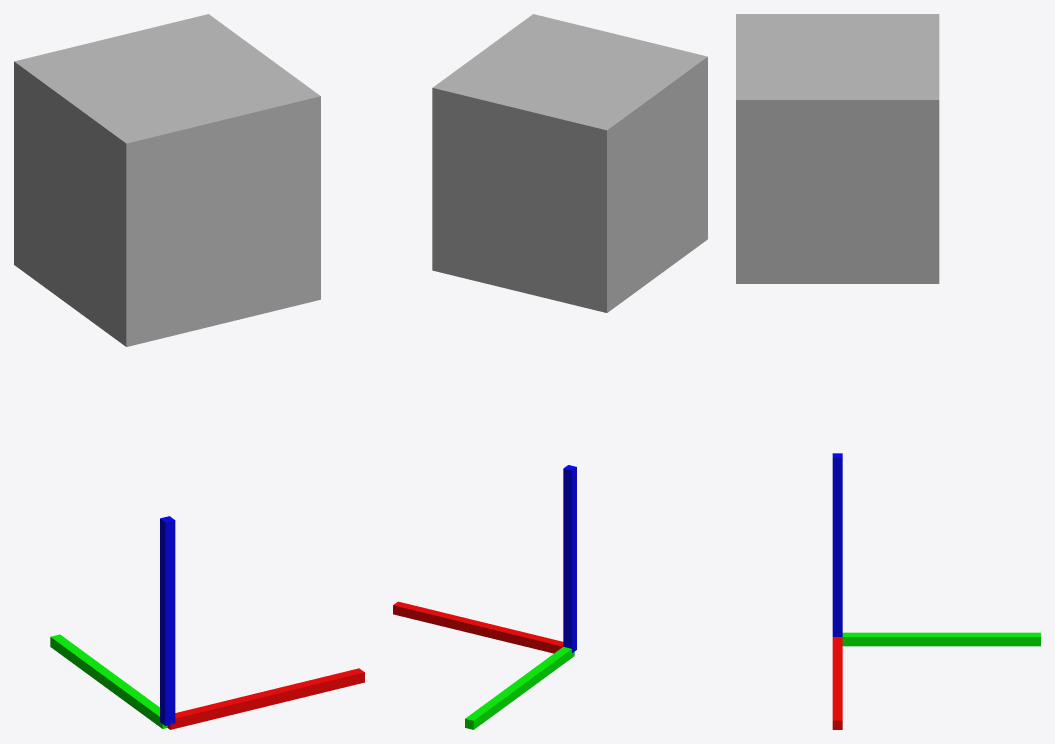
File: diamond.glb
3 views of the same model, side by side, from view 1: azimuth 30°, elevation 25°; view 2: azimuth 150°, elevation 25°; view 3: azimuth 270°, elevation 25° (orthographic). The views are drawn at different scales.
Parts seen in each view (by area): view 1: Plane, y.002, y.001, y; view 2: Plane, y.002, y.001, y; view 3: Plane, y, y.002, y.001.
Part boxes in pixels (x1,y1,x2,y2): Plane: [14, 14, 320, 346]; y.002: [160, 516, 175, 725]; y.001: [167, 668, 364, 729]; y: [50, 634, 167, 728]; Plane: [432, 14, 707, 312]; y.002: [563, 465, 576, 652]; y.001: [393, 601, 563, 653]; y: [465, 647, 574, 729]; Plane: [736, 14, 939, 283]; y: [842, 632, 1040, 646]; y.002: [832, 453, 842, 636]; y.001: [832, 637, 842, 729].
Size of the model in its own units: 3 by 6.38 by 3.
